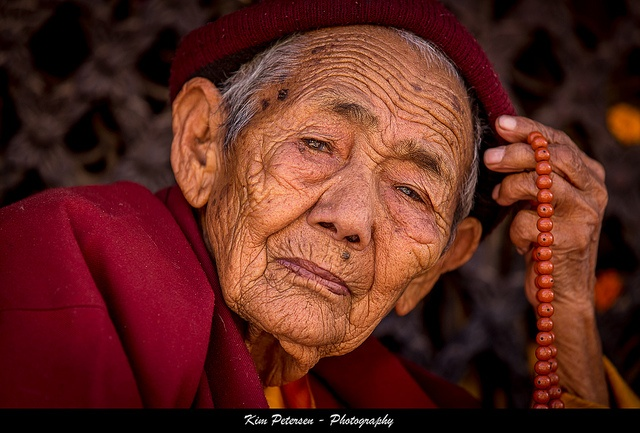human: (1, 3, 615, 411)
